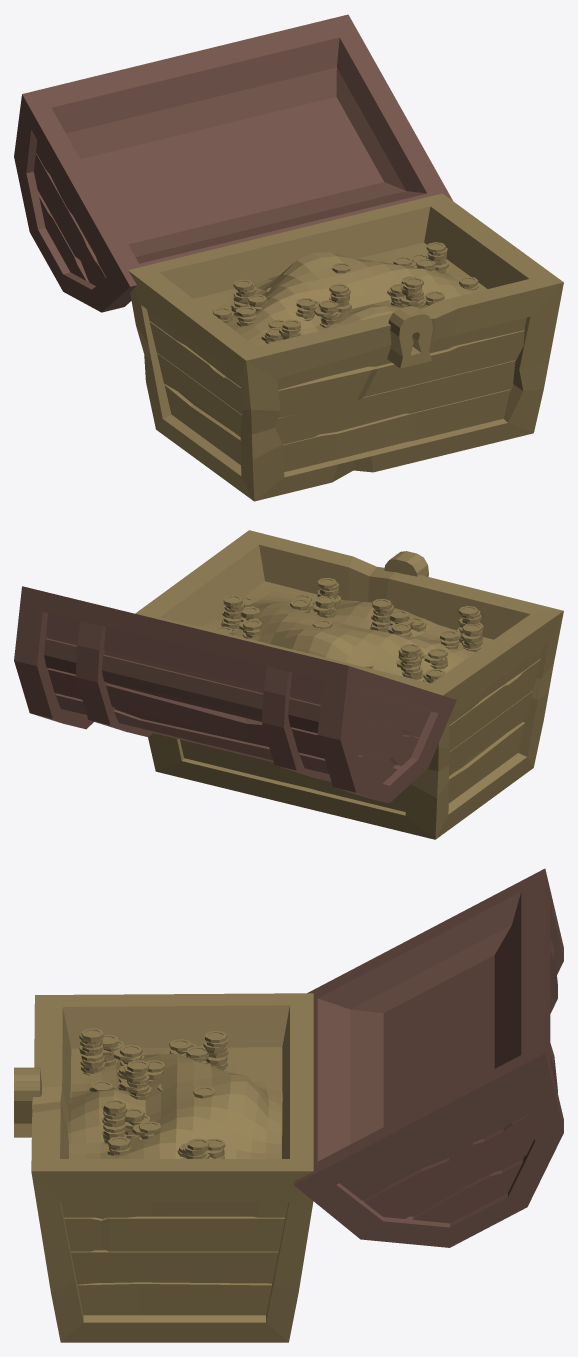
The model's file is cofreabierto.glb.
3 renders of one model, top to bottom at view 1: azimuth 30°, elevation 25°; view 2: azimuth 150°, elevation 25°; view 3: azimuth 270°, elevation 25°, orthographic. The views are drawn at different scales.
Visible parts, largest first — view 1: Chest_Base_Cube, Chest_Top_Cylinder.007; view 2: Chest_Base_Cube, Chest_Top_Cylinder.007; view 3: Chest_Base_Cube, Chest_Top_Cylinder.007.
Part boxes in pixels (box(x1,y1,x2,y2)): Chest_Base_Cube: box(128, 193, 563, 501); Chest_Top_Cylinder.007: box(14, 14, 452, 312); Chest_Base_Cube: box(135, 530, 563, 839); Chest_Top_Cylinder.007: box(14, 586, 456, 803); Chest_Base_Cube: box(14, 993, 313, 1342); Chest_Top_Cylinder.007: box(293, 868, 563, 1247).
Size of the model in its own units: 1.18 by 0.8994 by 1.48.
